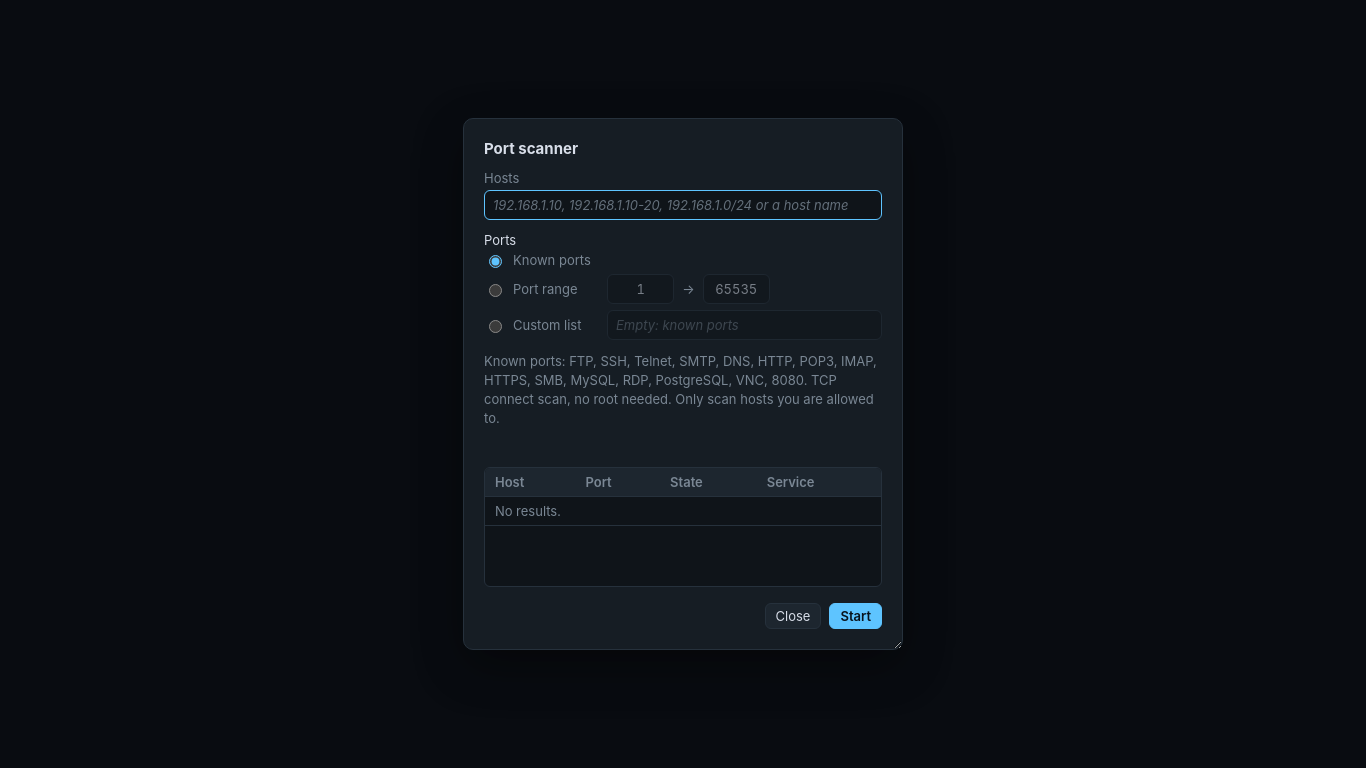
PortScannerDialog › checks the range before starting
Type "10.0.0.9" into the field labelled "Hosts" at (683, 205), box [484,190,882,220]
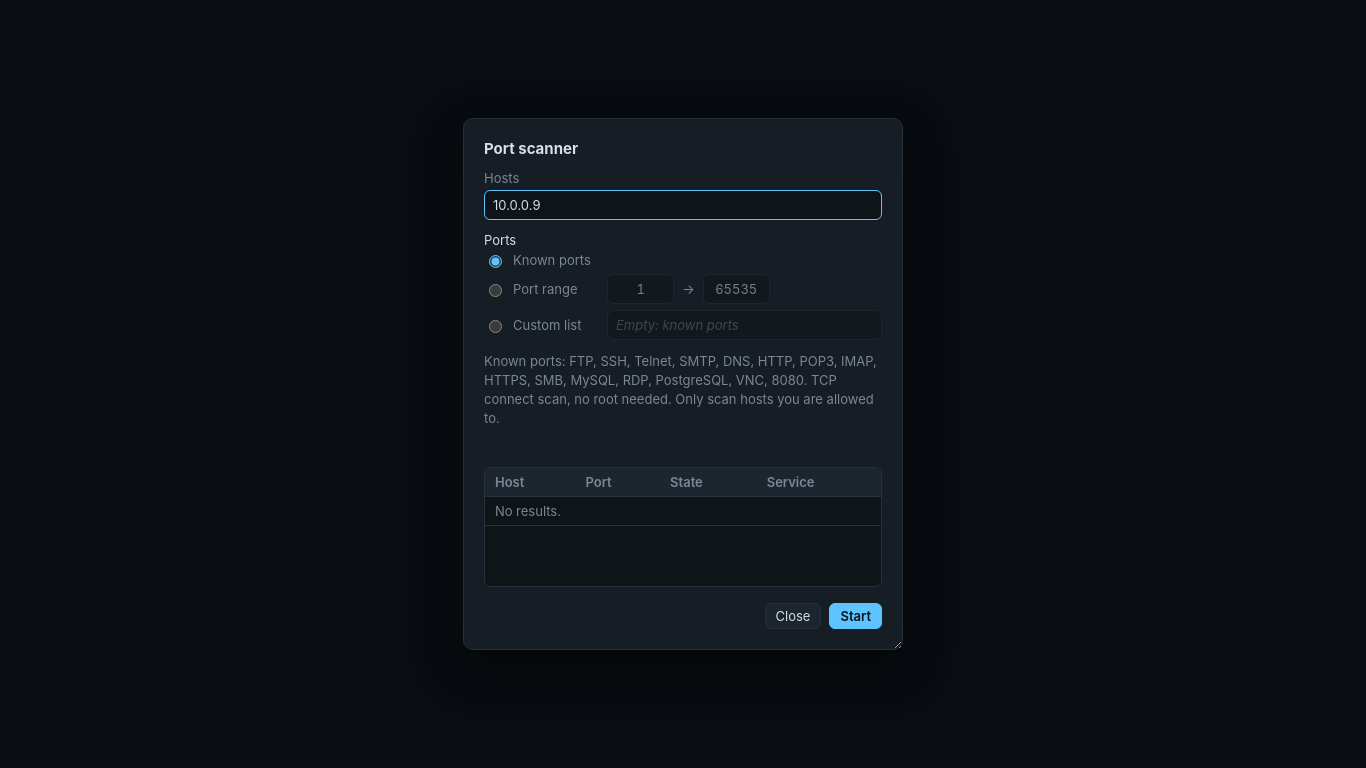
Click the radio button labelled "Port range" at (496, 290), box [489,284,502,297]
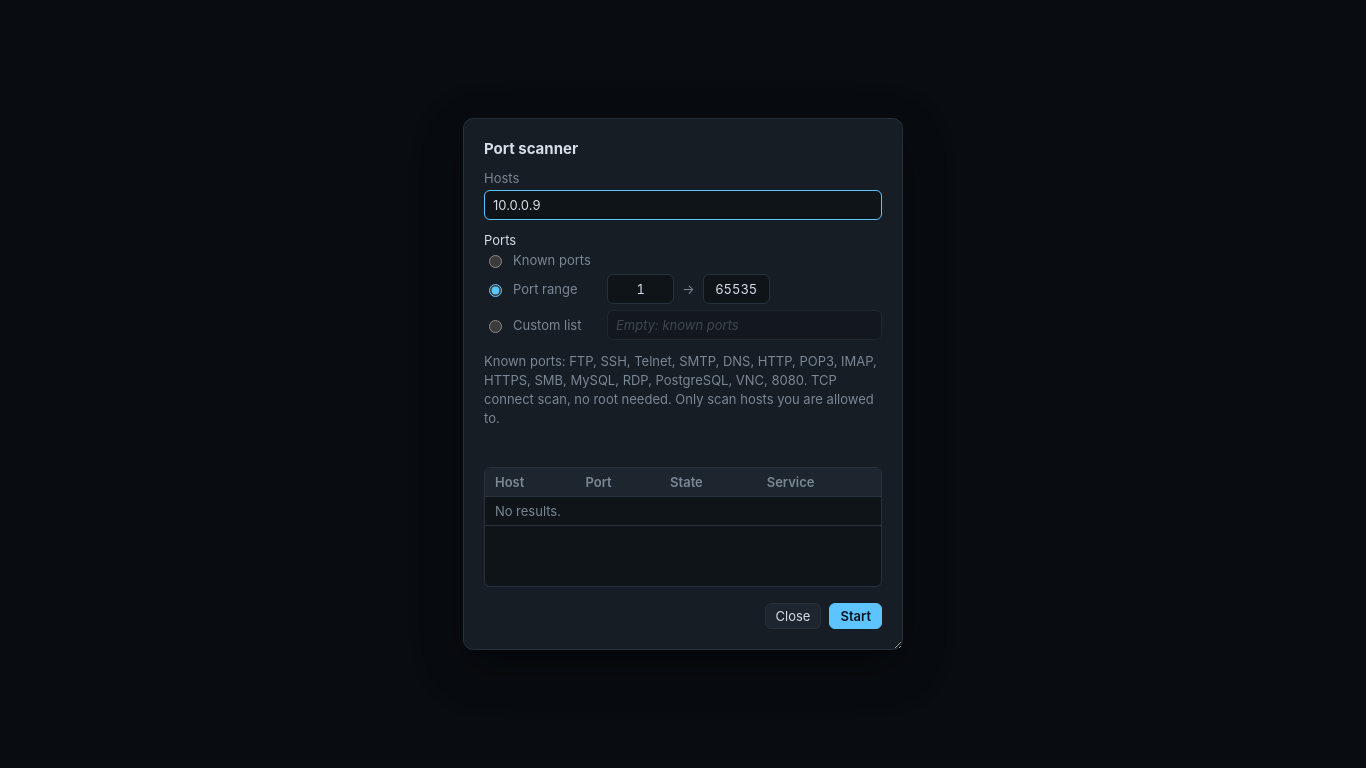
Replace the text in the field named "First port" with "2000" at (641, 289), box [607,274,674,304]
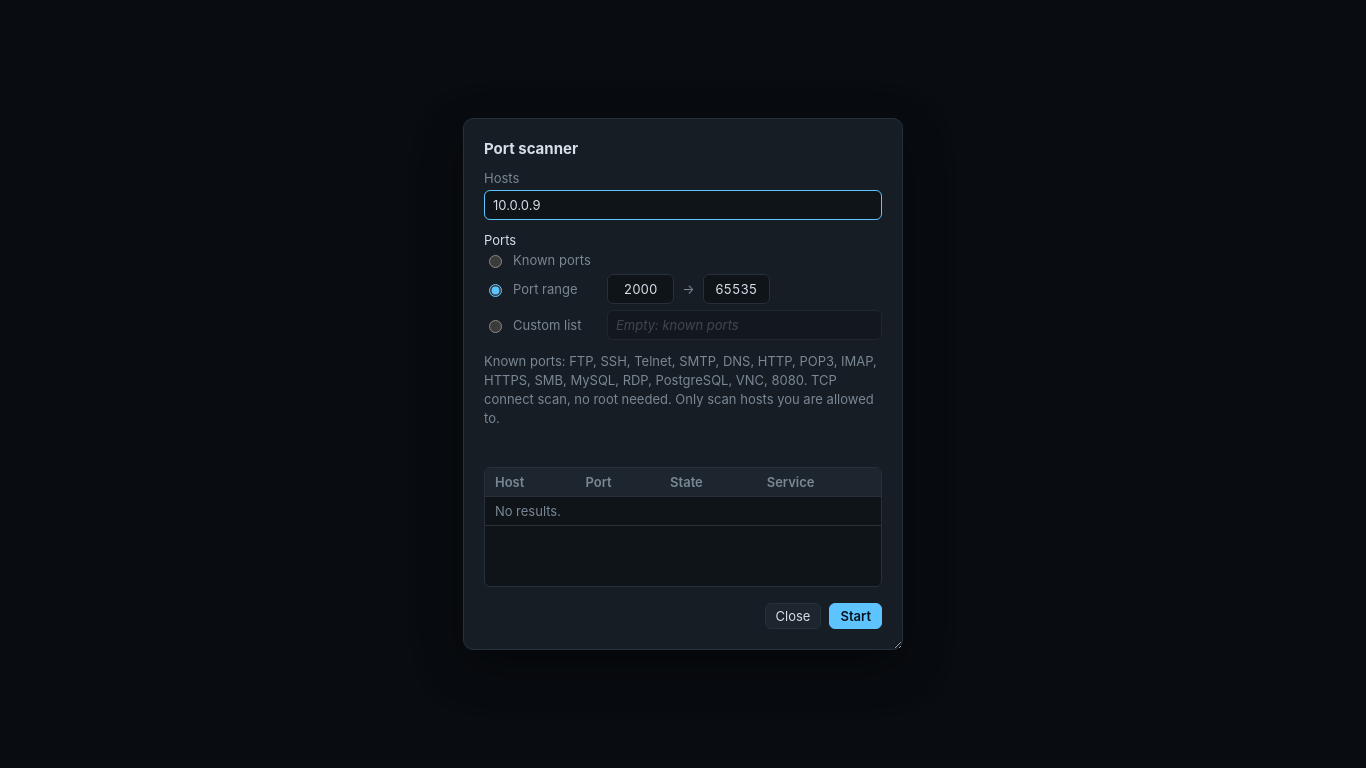
Replace the text in the field named "Last port" with "20" at (736, 289), box [703,274,770,304]
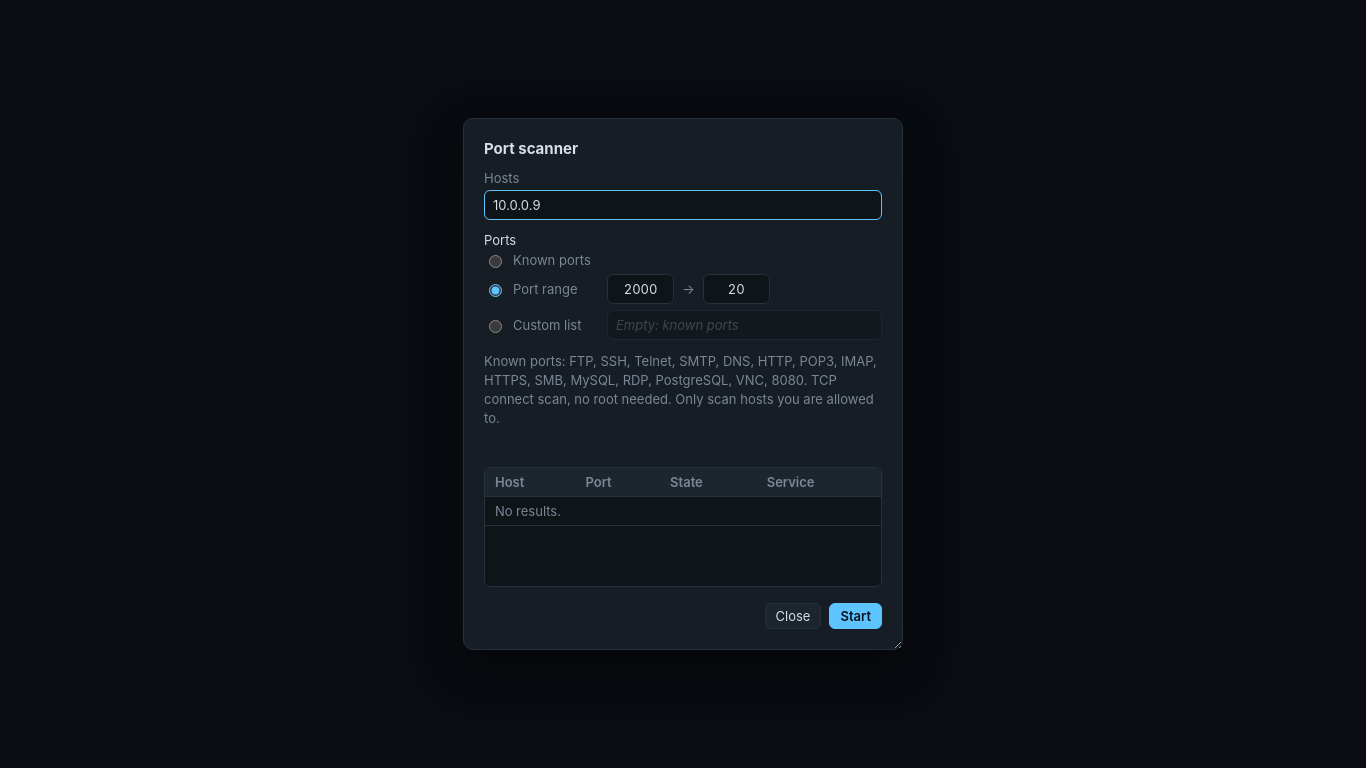
Click the button "Start" at (856, 616), box [829,603,882,629]
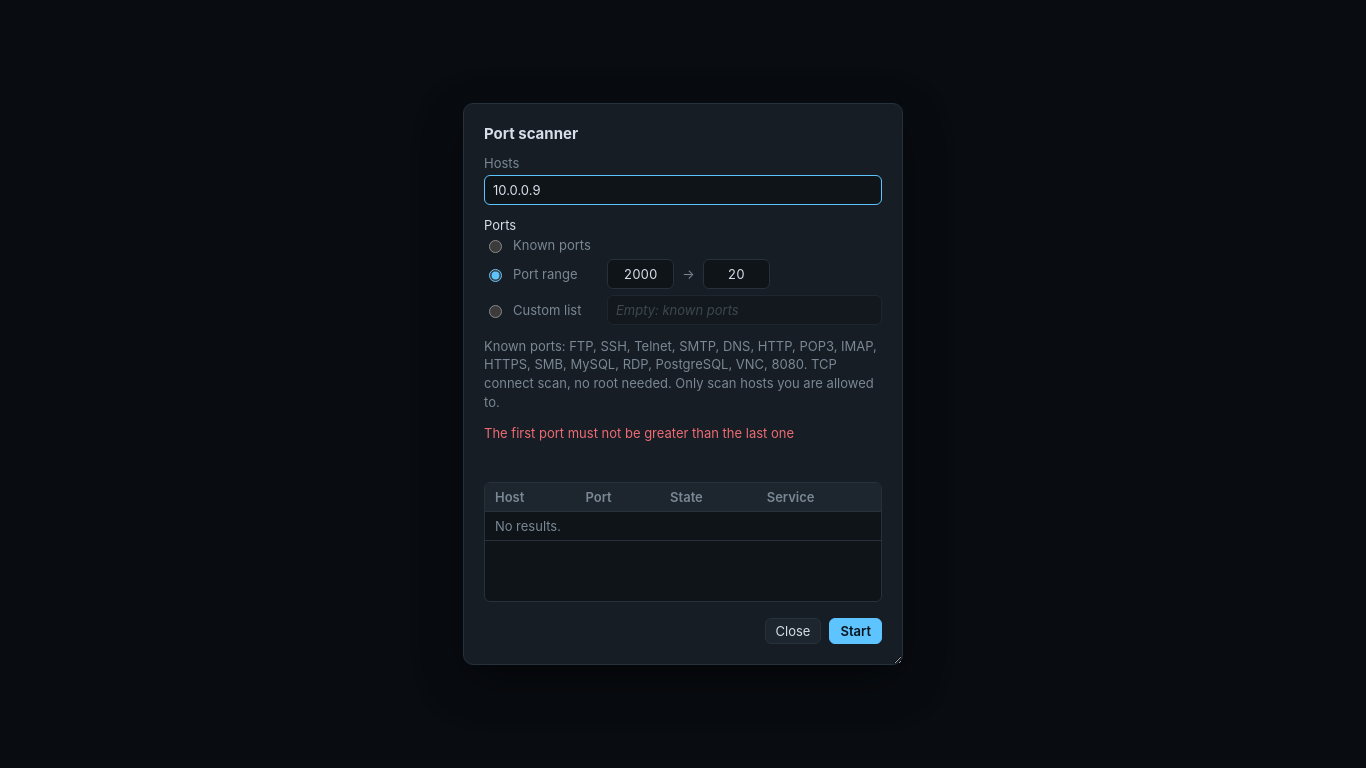
Now the message "The first port must not be greater than the last one" is shown, box [484,425,794,441]
